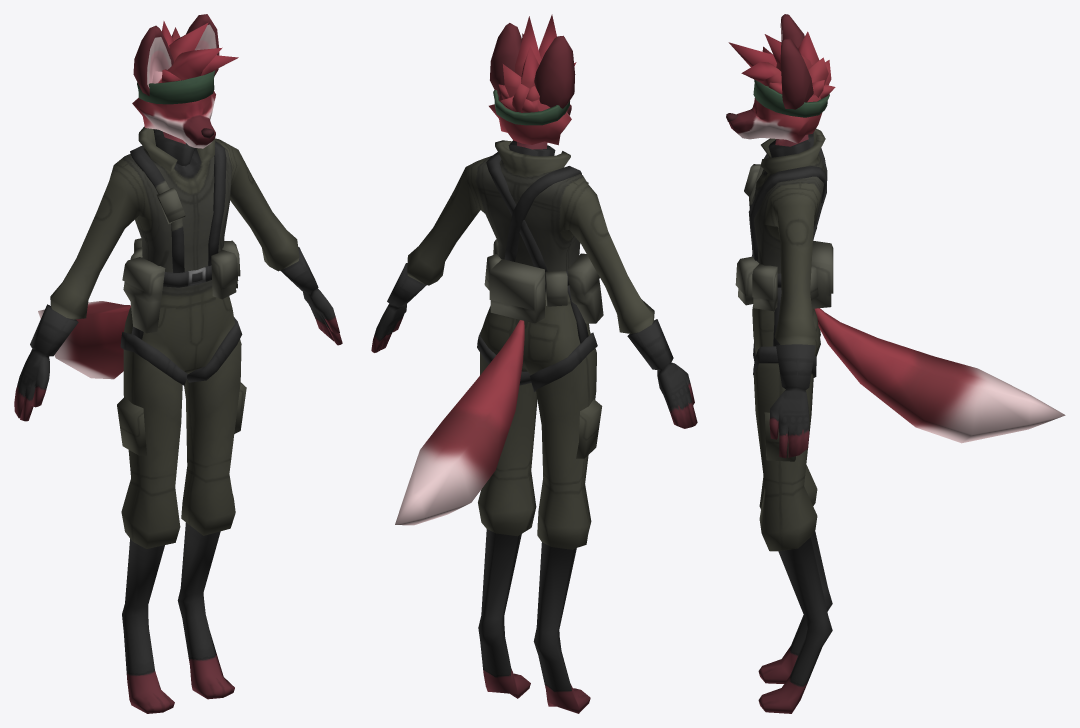
Rendered from kennyscene.glb.
3 renders of one model, left to right at view 1: azimuth 30°, elevation 25°; view 2: azimuth 150°, elevation 25°; view 3: azimuth 270°, elevation 25°, orthographic.
Parts seen in each view (by area): view 1: legs, body, straps, head.001, tail, head, hair, straps.001; view 2: body, legs, tail, straps, head.001, hair, straps.001, head; view 3: body, tail, legs, straps, head.001, hair, head, straps.001.
Part boxes in pixels (x1,y1,x2,y2): legs: (117,339,246,713); body: (14,126,342,421); straps: (122,141,240,333); head.001: (133,14,219,138); tail: (38,301,130,379); head: (132,71,215,148); hair: (161,21,238,82); straps.001: (120,317,242,385); body: (371,140,697,428); legs: (478,348,602,713); tail: (395,320,524,525); straps: (484,152,603,323); head.001: (490,23,575,125); hair: (498,14,576,112); straps.001: (477,285,597,391); head: (489,95,571,145); body: (752,128,826,457); tail: (814,308,1065,443); legs: (753,363,832,713); straps: (735,148,833,311); head.001: (726,14,829,121); hair: (728,31,835,98); head: (728,95,821,143); straps.001: (753,287,816,377).
Size of what is drawn, in the model's own units: 1.35 by 2.72 by 1.26.
Materials: 5 (5 with a texture image).
